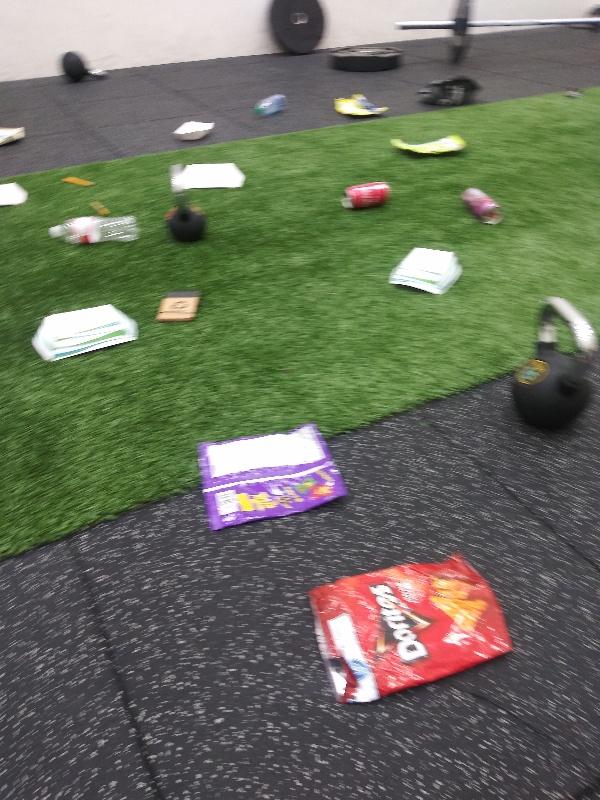bag: (305, 550, 515, 707), (191, 415, 357, 535), (385, 132, 471, 159), (329, 92, 391, 120), (1, 120, 33, 150)
bottle: (46, 211, 143, 248), (252, 90, 291, 120)
can: (459, 182, 506, 230), (340, 177, 396, 214)
plate: (27, 300, 143, 367), (386, 244, 465, 301), (183, 159, 248, 192), (170, 117, 219, 146), (1, 178, 33, 212)
